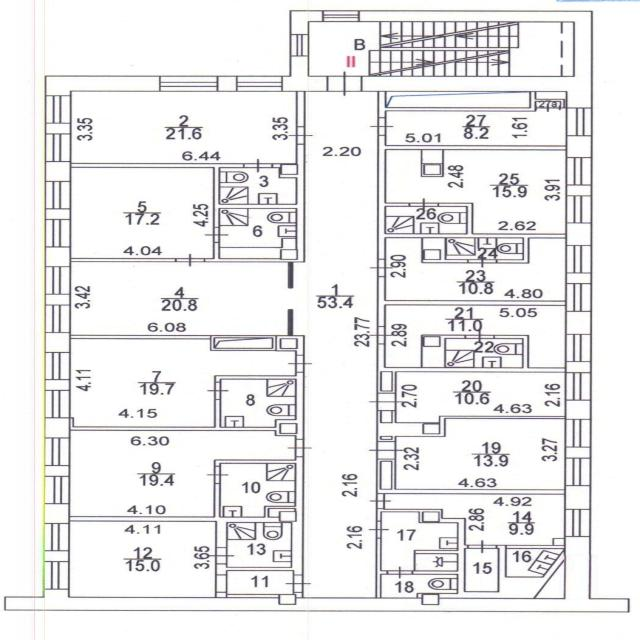Bathrooms: (382, 512, 458, 570), (220, 464, 295, 516), (221, 380, 295, 428), (220, 209, 296, 247), (229, 523, 292, 567), (220, 168, 296, 204), (447, 339, 523, 367), (387, 207, 466, 233), (382, 575, 457, 598), (506, 548, 565, 577), (447, 238, 523, 260), (447, 239, 523, 260)
Corridors: (293, 92, 376, 597), (385, 305, 566, 367), (387, 238, 567, 300), (388, 91, 529, 107), (227, 571, 293, 594), (466, 549, 498, 591), (535, 565, 564, 599)
Doors: (327, 71, 362, 97), (367, 441, 405, 460), (367, 393, 406, 411), (368, 325, 396, 345), (283, 575, 313, 593), (285, 355, 315, 373), (287, 126, 317, 144), (367, 259, 395, 278), (207, 547, 237, 564), (369, 117, 395, 136), (410, 197, 439, 214), (243, 158, 273, 174), (204, 381, 229, 400), (287, 439, 313, 457), (202, 227, 231, 243), (176, 252, 205, 268), (205, 466, 230, 484), (467, 254, 497, 269), (464, 329, 495, 343), (467, 539, 497, 553), (367, 494, 392, 509), (387, 565, 413, 579), (369, 521, 389, 538), (216, 575, 227, 593), (287, 288, 294, 309)
LBwalls: (4, 537, 631, 613), (360, 10, 593, 108), (43, 75, 159, 96), (281, 57, 327, 93), (377, 422, 439, 437), (289, 10, 323, 35), (421, 335, 446, 367), (220, 247, 281, 259), (565, 311, 592, 334), (422, 238, 446, 263), (421, 151, 444, 177), (565, 135, 592, 157), (568, 223, 592, 247), (565, 486, 590, 509), (44, 162, 72, 182), (44, 332, 72, 352), (44, 246, 70, 267), (565, 399, 592, 419), (45, 418, 70, 438), (44, 504, 69, 524), (564, 361, 592, 373), (565, 185, 592, 197), (566, 272, 592, 284), (44, 465, 70, 477), (217, 76, 236, 92), (45, 209, 72, 220), (565, 447, 591, 458), (45, 123, 71, 134), (45, 294, 71, 305), (44, 379, 70, 390), (45, 551, 69, 562), (422, 594, 439, 606), (279, 422, 296, 434), (279, 594, 296, 605), (422, 511, 439, 522), (422, 423, 439, 434), (279, 511, 296, 522), (280, 338, 297, 349), (424, 336, 441, 347), (425, 249, 442, 260), (280, 249, 297, 260), (424, 164, 441, 175), (281, 164, 298, 174), (282, 238, 296, 249), (552, 537, 565, 546)
Offices: (69, 339, 296, 427), (70, 431, 295, 516), (71, 92, 295, 163), (71, 263, 287, 336), (387, 150, 566, 233), (71, 168, 212, 258), (397, 419, 565, 489), (71, 521, 215, 597), (386, 494, 564, 545), (396, 373, 566, 423), (387, 102, 567, 145)
Stairs: (310, 23, 573, 76)
Walls: (71, 144, 305, 263), (69, 457, 304, 575), (377, 135, 567, 264), (375, 509, 566, 598), (70, 372, 305, 440), (376, 344, 566, 393), (377, 277, 566, 325), (376, 459, 564, 495), (377, 91, 567, 119), (70, 335, 305, 355), (438, 416, 565, 437), (495, 335, 529, 368), (376, 539, 387, 598), (215, 592, 280, 598), (296, 91, 306, 127), (71, 259, 176, 262), (377, 411, 397, 422), (288, 309, 293, 336), (288, 262, 293, 288), (446, 259, 468, 263), (376, 437, 397, 441), (446, 335, 465, 338), (293, 593, 303, 598), (274, 163, 281, 168), (278, 168, 281, 178), (417, 593, 423, 598)
Windows: (159, 75, 218, 92), (565, 156, 592, 186), (565, 245, 592, 274), (567, 334, 593, 363), (564, 457, 589, 487), (46, 134, 71, 163), (46, 561, 70, 591), (46, 438, 71, 466), (568, 107, 592, 136), (46, 389, 69, 419), (237, 76, 283, 91), (46, 304, 70, 332), (46, 475, 69, 504), (47, 95, 70, 123), (46, 219, 69, 247), (46, 352, 69, 380), (565, 509, 588, 537), (567, 284, 590, 312), (46, 182, 69, 209), (46, 267, 69, 294), (46, 524, 69, 551), (568, 196, 591, 223), (566, 419, 588, 447), (567, 373, 589, 400), (289, 34, 309, 57), (322, 10, 360, 21)
